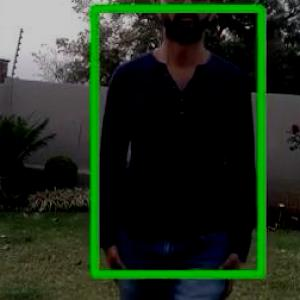follow: (89, 0, 257, 299)
